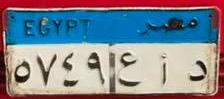4: (61, 50, 80, 91)
5: (11, 58, 32, 88)
7: (35, 49, 58, 89)
9: (86, 49, 106, 87)
ain: (116, 48, 142, 91)
alif: (156, 52, 172, 89)
daal: (185, 56, 208, 85)
